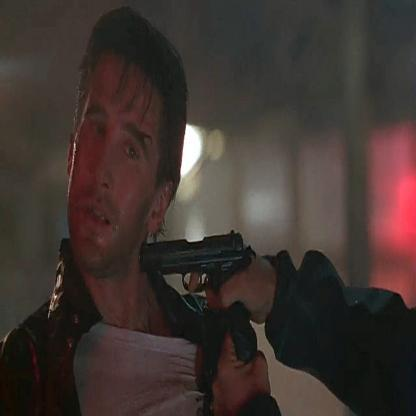gun: (139, 222, 265, 366)
